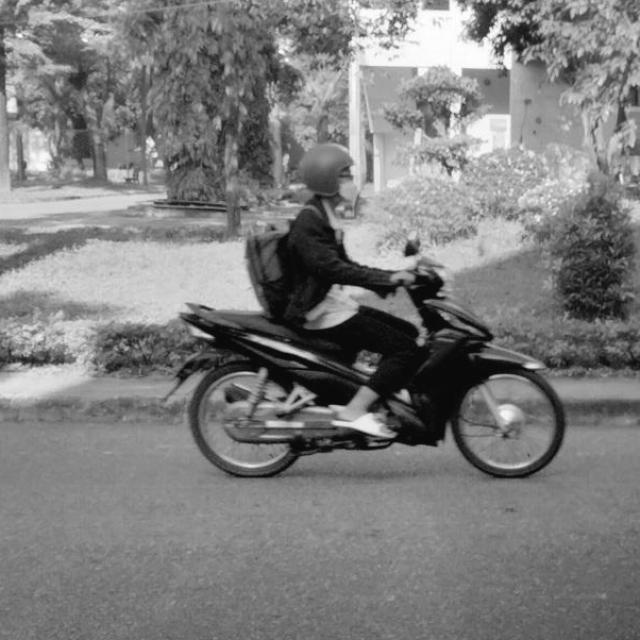Helmet: (300, 142, 358, 208)
